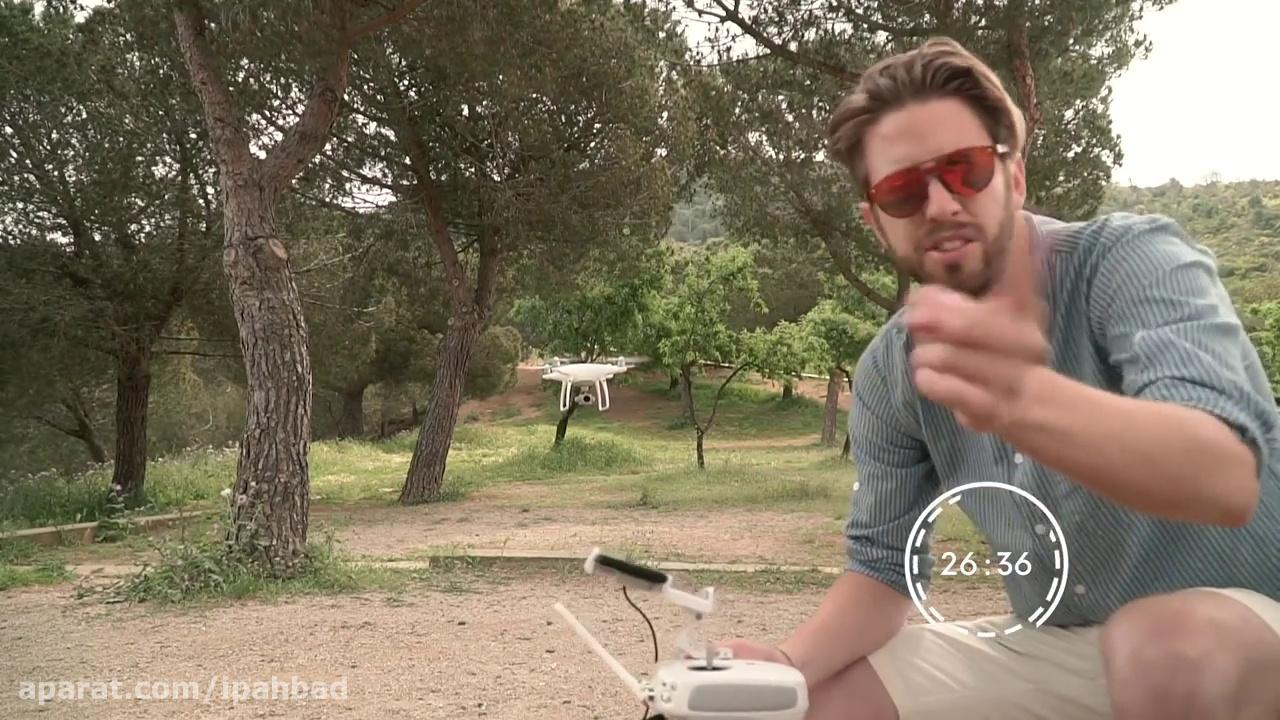drone: (530, 348, 653, 411)
